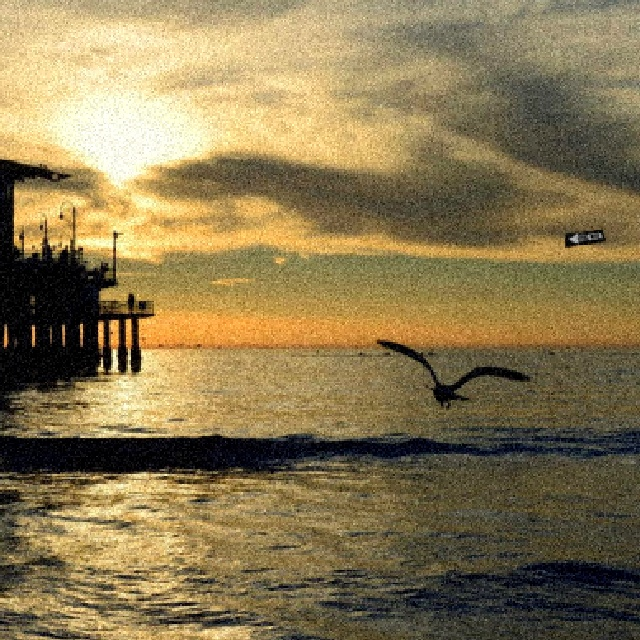ONE_WAY_ left: (563, 228, 604, 246)
